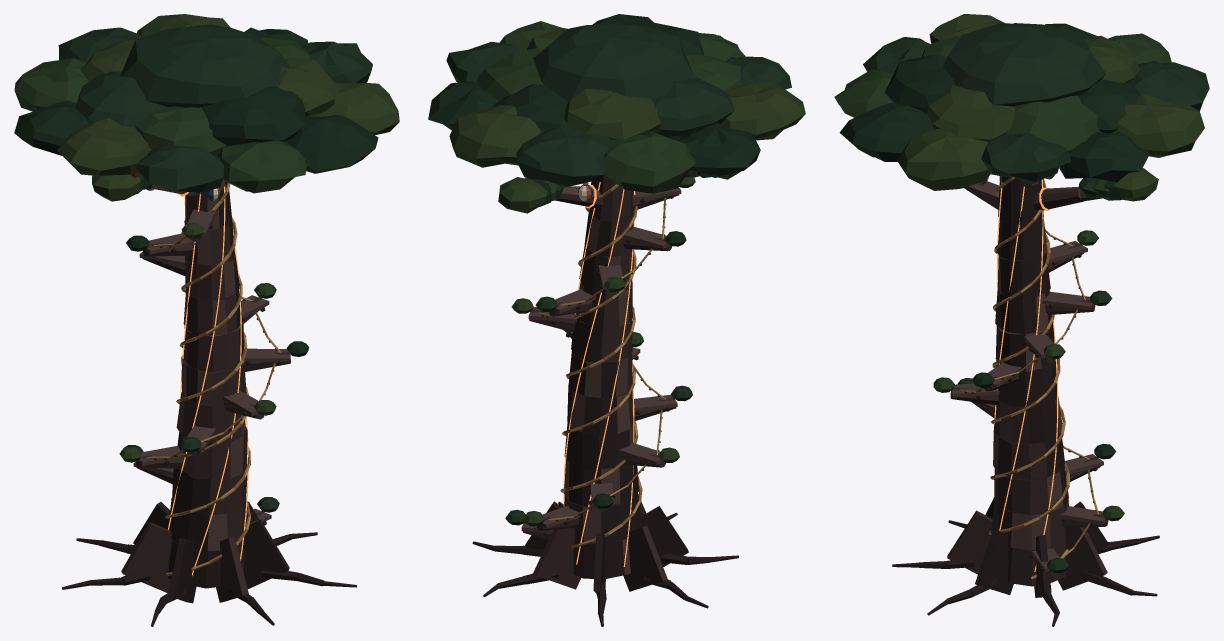
File: bele_tree.glb
The picture shows the model from 3 angles, left to right: view 1: azimuth 30°, elevation 25°; view 2: azimuth 150°, elevation 25°; view 3: azimuth 270°, elevation 25°; orthographic projection. The views are drawn at different scales.
Parts seen in each view (by area): view 1: Canopy, Trunk, CutBranch2, Platform7, Platform11, Platform4, Platform6, Platform8, Platform12, Platform5, Platform10; view 2: Canopy, Trunk, CutBranch1, Platform11, Platform5, Platform4, Platform9, Platform2, Platform8, Platform12, Platform10, Platform3; view 3: Canopy, Trunk, CutBranch1, Platform9, Platform2, Platform6, Platform10, Platform3, Platform7, Platform8, Platform1, Platform12.
Part boxes in pixels (<box>): Canopy: <box>14,14,399,193</box>; Trunk: <box>62,180,356,626</box>; CutBranch2: <box>92,173,198,201</box>; Platform7: <box>241,341,309,371</box>; Platform11: <box>127,233,195,256</box>; Platform4: <box>119,445,184,468</box>; Platform6: <box>223,391,276,419</box>; Platform8: <box>241,283,276,323</box>; Platform12: <box>181,209,215,241</box>; Platform5: <box>179,425,215,455</box>; Platform10: <box>126,236,185,275</box>; Canopy: <box>428,14,805,193</box>; Trunk: <box>472,174,738,626</box>; CutBranch1: <box>498,177,603,213</box>; Platform11: <box>622,227,686,251</box>; Platform5: <box>632,385,692,421</box>; Platform4: <box>619,443,679,467</box>; Platform9: <box>535,289,595,316</box>; Platform2: <box>522,506,580,530</box>; Platform8: <box>511,298,576,332</box>; Platform12: <box>632,176,695,211</box>; Platform10: <box>597,265,625,294</box>; Platform3: <box>588,482,615,511</box>; Canopy: <box>834,14,1209,190</box>; Trunk: <box>892,176,1159,626</box>; CutBranch1: <box>1032,168,1158,210</box>; Platform9: <box>1042,290,1112,314</box>; Platform2: <box>1060,505,1124,528</box>; Platform6: <box>933,377,999,405</box>; Platform10: <box>1046,230,1098,272</box>; Platform3: <box>1065,443,1116,481</box>; Platform7: <box>973,362,1021,391</box>; Platform8: <box>1024,333,1065,362</box>; Platform1: <box>1030,548,1068,576</box>; Platform12: <box>964,181,999,209</box>.
Size of the model in its own units: 28.9 by 46.5 by 29.24.
